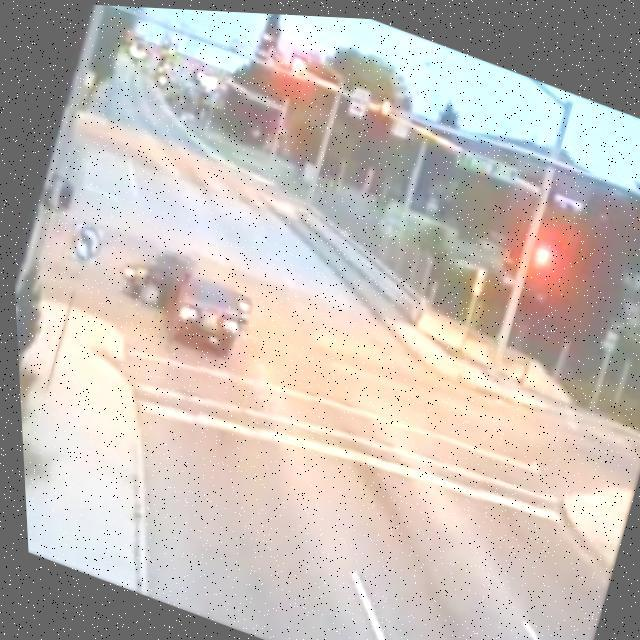Car Accident Detector - v4 Generation1 Exported: (95, 218, 279, 369)
